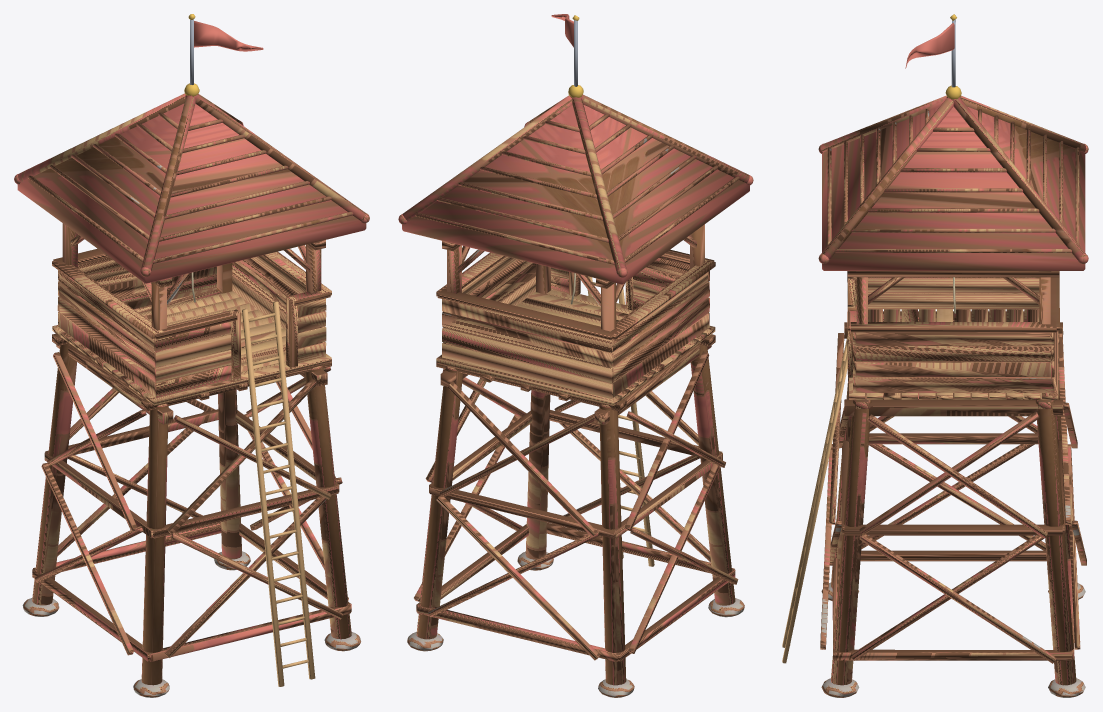
3 views of the same model, side by side, from view 1: azimuth 30°, elevation 25°; view 2: azimuth 150°, elevation 25°; view 3: azimuth 270°, elevation 25° (orthographic). The views are drawn at different scales.
Parts seen in each view (by area): view 1: wooden-watchtower_body, wooden-watchtower_details, wooden-watchtower_pennant; view 2: wooden-watchtower_body, wooden-watchtower_details; view 3: wooden-watchtower_body, wooden-watchtower_details, wooden-watchtower_pennant.
Part boxes in pixels (x1=…): wooden-watchtower_body: x1=14, y1=93, x2=369, y2=697; wooden-watchtower_details: x1=184, y1=14, x2=315, y2=686; wooden-watchtower_pennant: x1=194, y1=21, x2=263, y2=51; wooden-watchtower_body: x1=398, y1=94, x2=753, y2=697; wooden-watchtower_details: x1=568, y1=15, x2=654, y2=566; wooden-watchtower_body: x1=818, y1=95, x2=1088, y2=697; wooden-watchtower_details: x1=782, y1=14, x2=961, y2=663; wooden-watchtower_pennant: x1=905, y1=22, x2=954, y2=68.
Size of the model in its own units: 3.7 by 9.54 by 4.19.
Materials: 7 (1 with a texture image).
